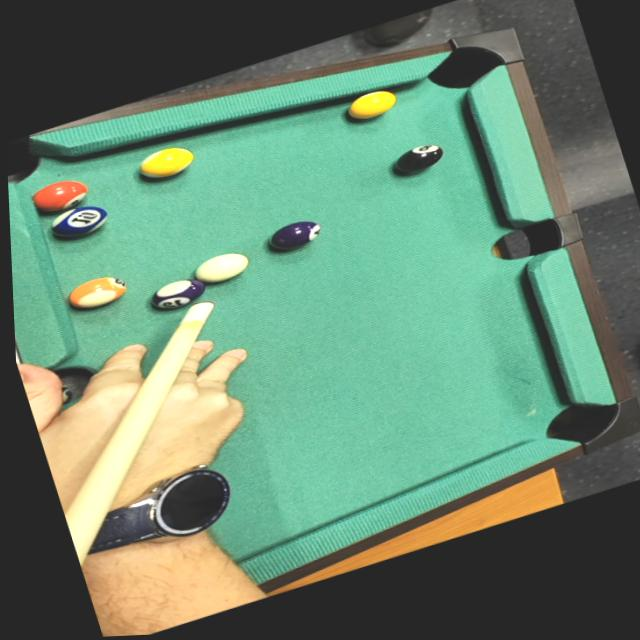cue ball: (186, 243, 253, 290)
other: (60, 264, 135, 316), (19, 171, 93, 220), (46, 195, 117, 245), (131, 138, 201, 186), (335, 82, 405, 126), (259, 212, 327, 256), (145, 270, 210, 315), (388, 138, 449, 180)
